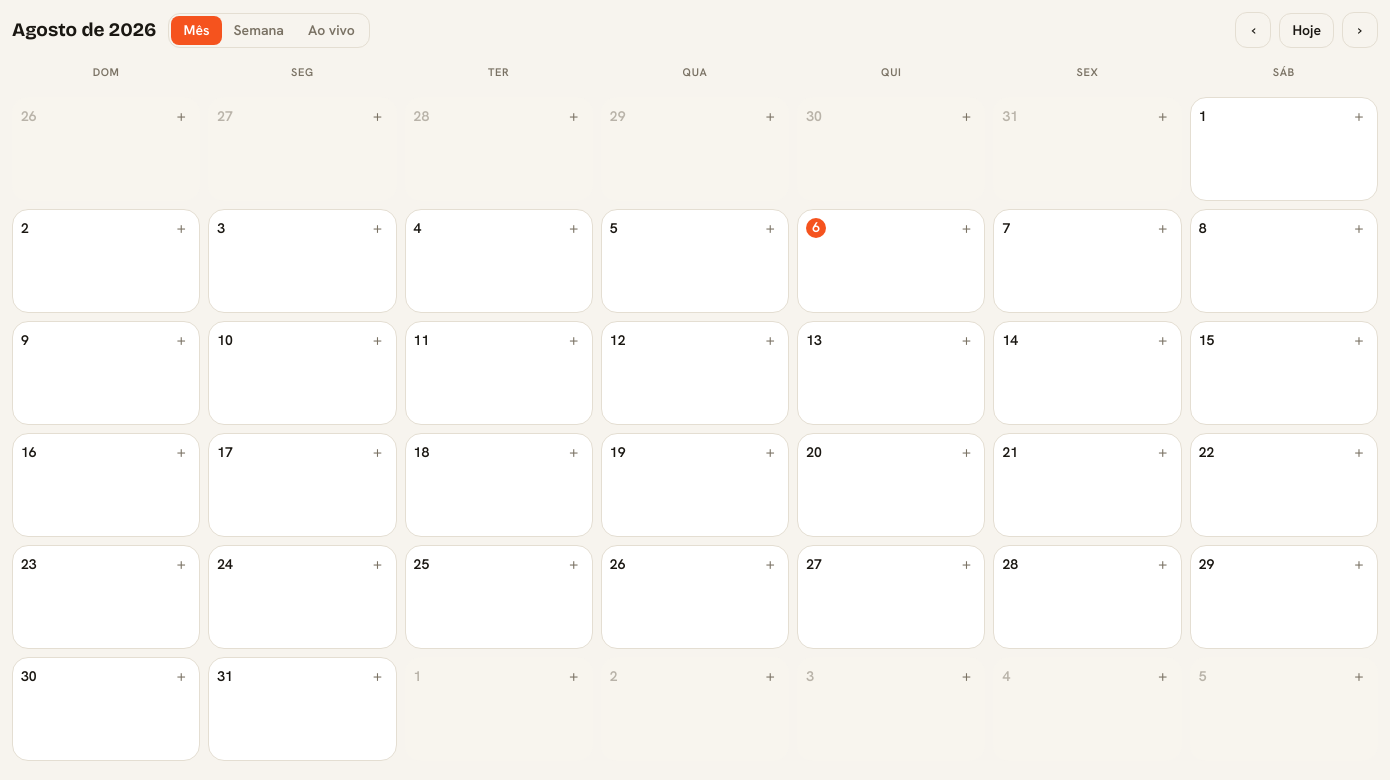
Test: EscalaPage › navega pro mês seguinte e volta
Expected: the heading "Agosto de 2026" is shown, [12,16,156,44]
Click the button named "Próximo mês": (1360, 30) [1342,12,1378,48]
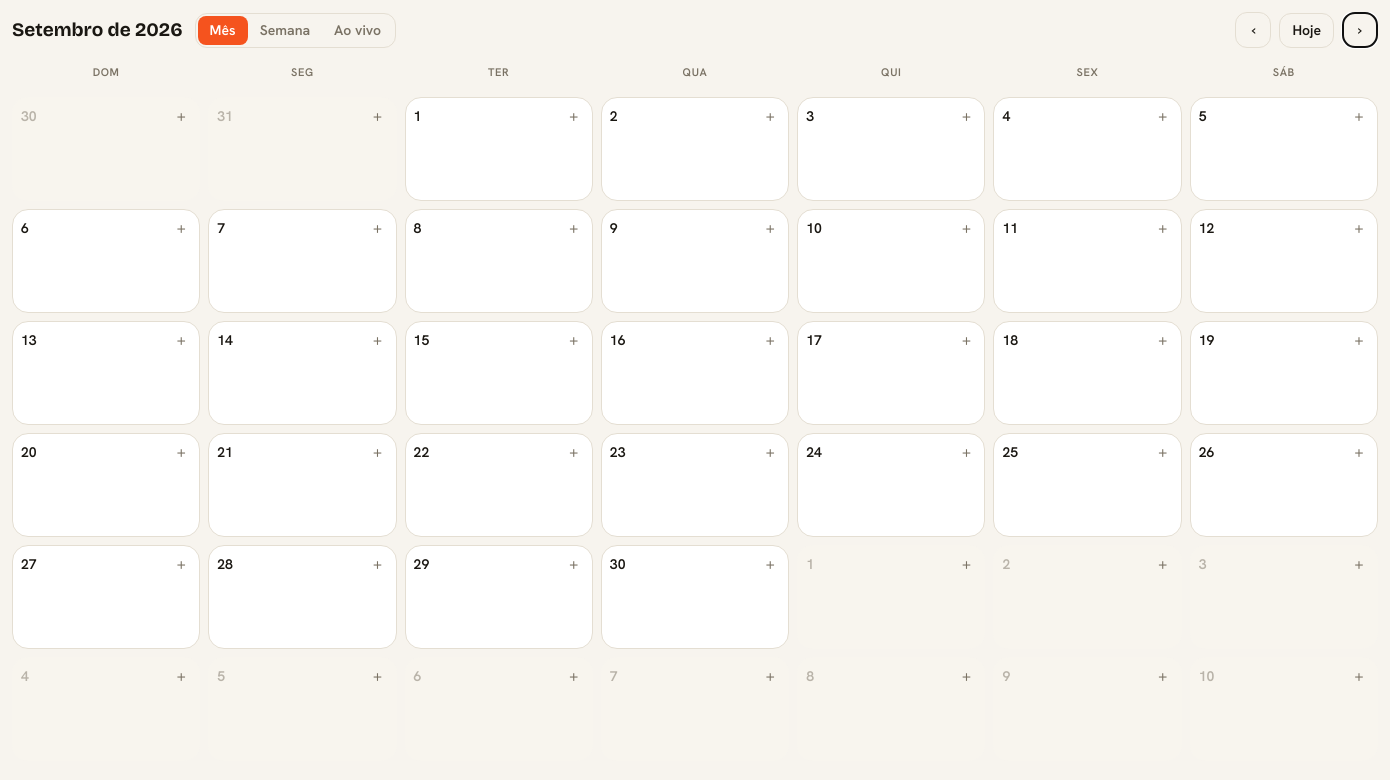
Result: the heading "Setembro de 2026" is shown at [12,16,183,44]
Click the button named "Mês anterior": (1253, 30) [1235,12,1271,48]
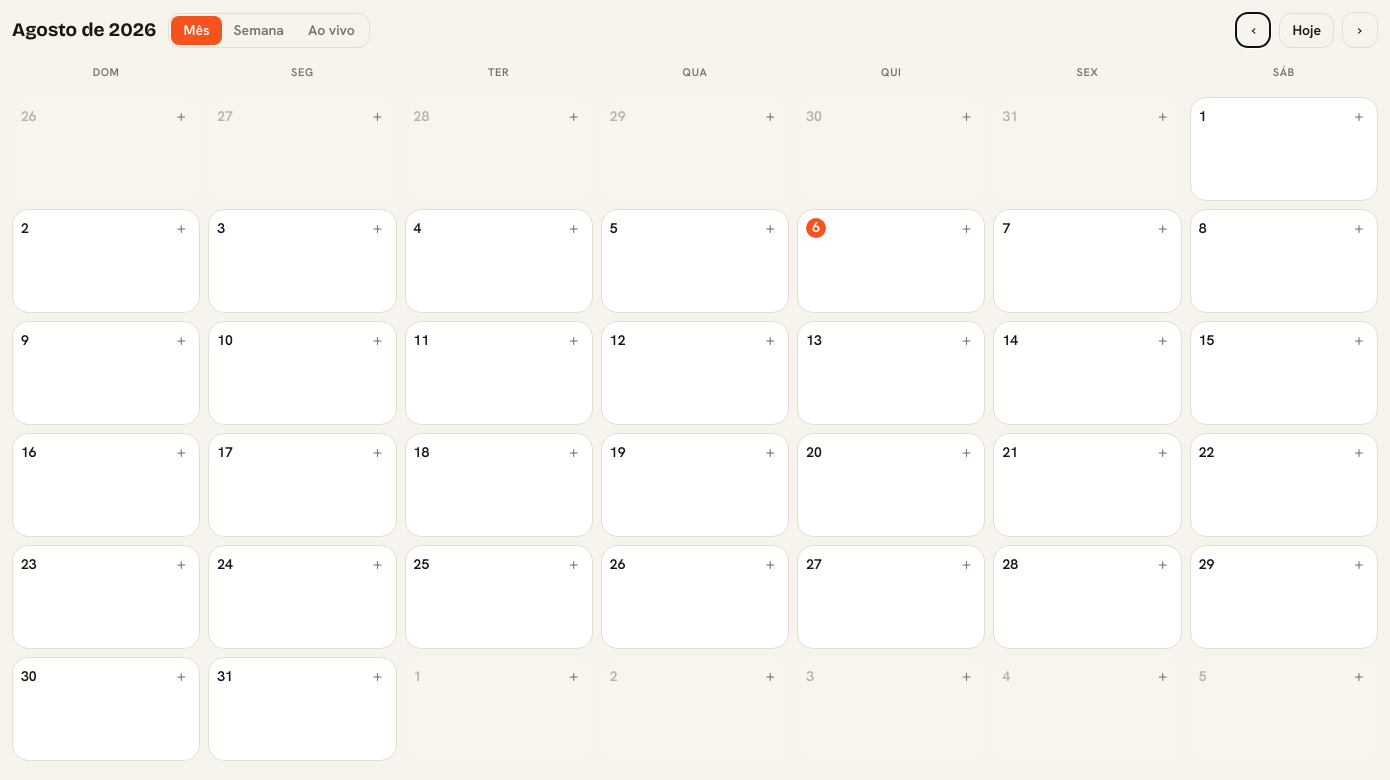
Result: the heading "Agosto de 2026" is shown at [12,16,156,44]
